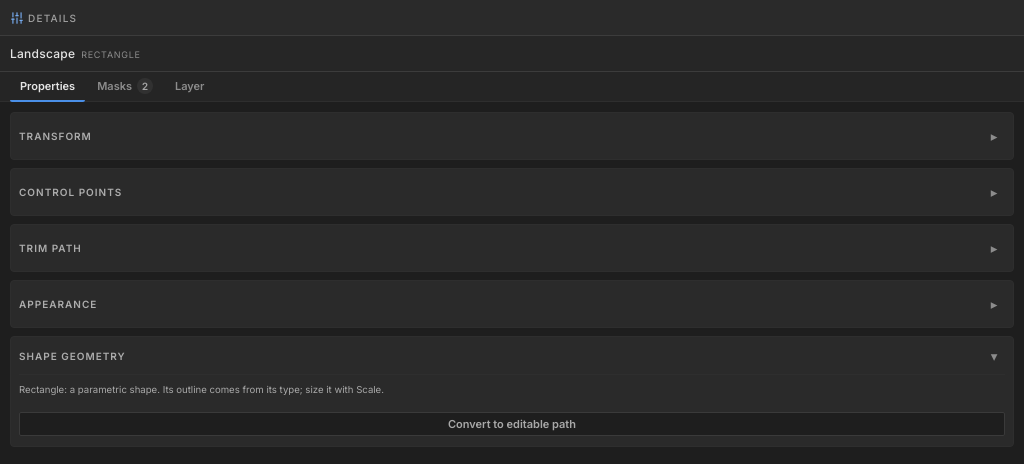
Scenario: WP-04 Track Matte navigation › shows the effective source, the shared-visibility conflict and the preserved legacy settings
The image size is (1024, 464).
Press the mouse on the tab "Masks 2": [125, 87] box [87,72,163,102]
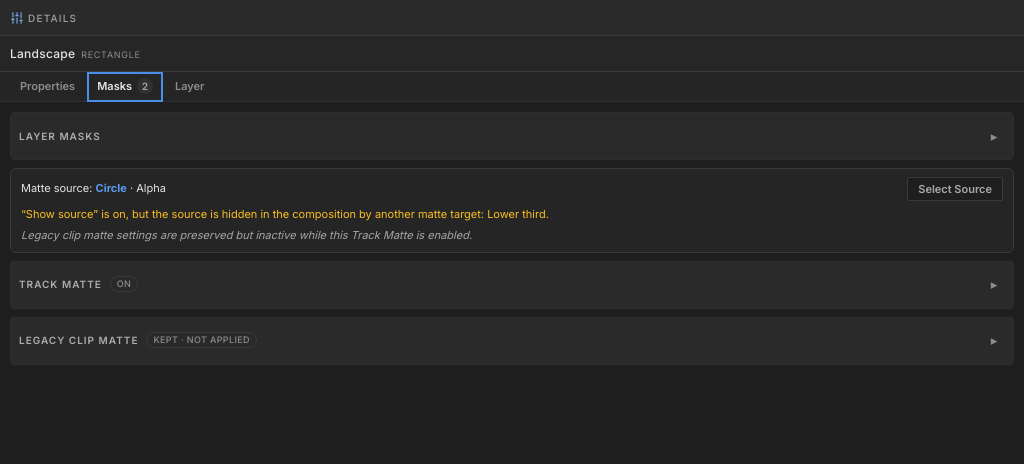
Check: the element with test id "track-matte-summary" shows "Matte source: Circle", box [10,168,1014,253]
Check: the element with test id "track-matte-summary" shows "Alpha", box [136,181,166,195]
Check: the message with test id "track-matte-visibility-conflict" shows "Lower third", box [487,207,546,221]
